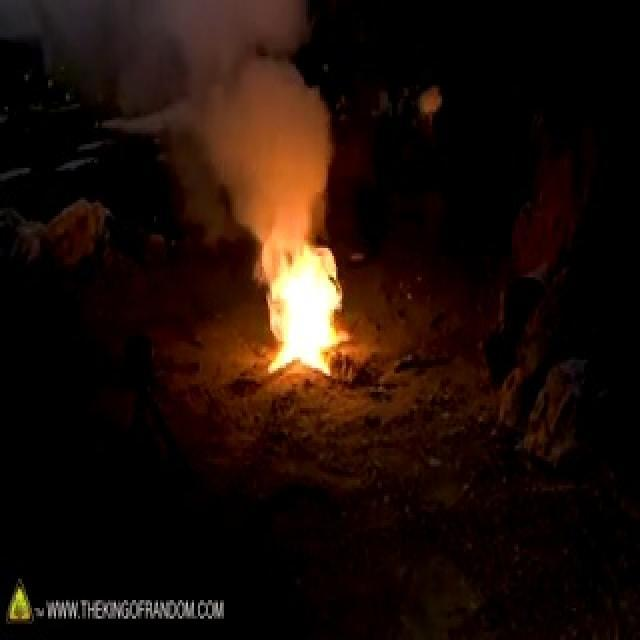Fire: (270, 244, 354, 382)
Smoke: (76, 0, 350, 235)
